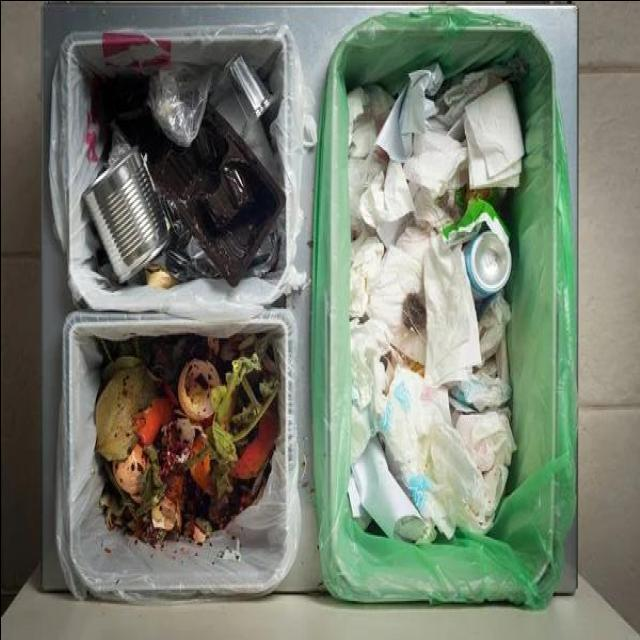Garbage: (346, 60, 524, 540), (90, 331, 291, 570)
Metal: (82, 147, 169, 281), (464, 229, 510, 294)
Plastic: (102, 75, 284, 285)
contaminated_waste: (346, 62, 524, 539), (78, 68, 285, 285), (208, 55, 275, 178)
